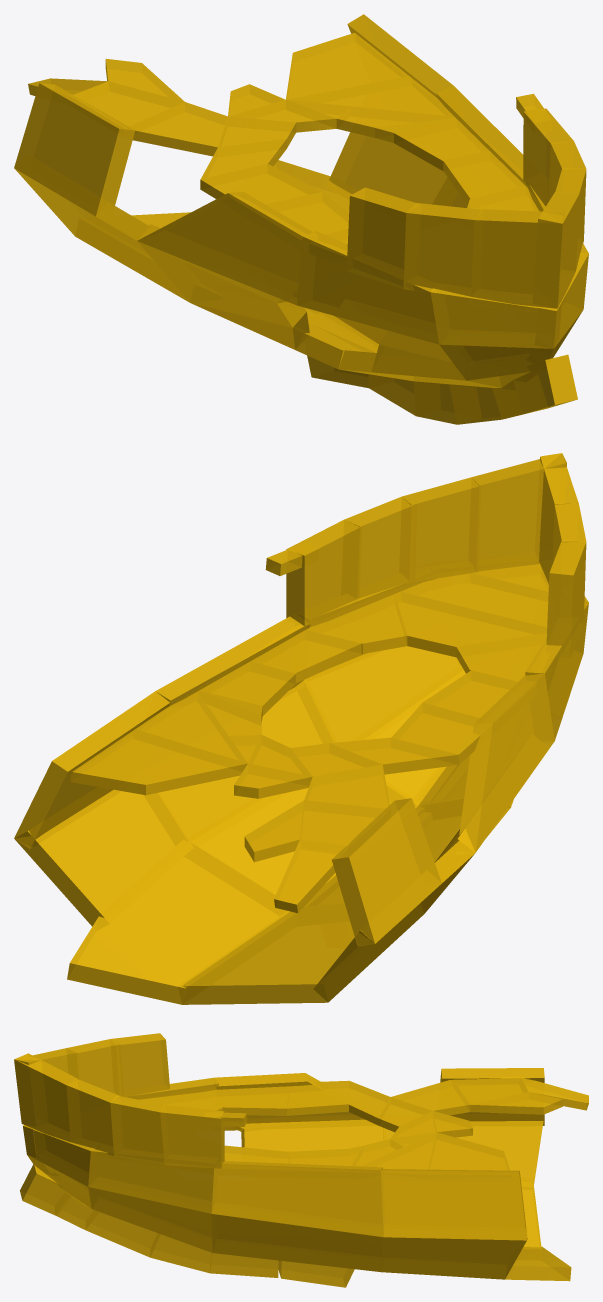
The model's file is SM_Prop_Wreck_Small_Front_01_Collision.fbx.
3 renders of one model, top to bottom at view 1: azimuth 30°, elevation 25°; view 2: azimuth 150°, elevation 25°; view 3: azimuth 270°, elevation 25°, orthographic. The views are drawn at different scales.
Visible parts, largest first — view 1: SM_Prop_Wreck_Small_Front_01_Collision; view 2: SM_Prop_Wreck_Small_Front_01_Collision; view 3: SM_Prop_Wreck_Small_Front_01_Collision.
Boxes of the visible parts, x1,y1,x2,y2 form: SM_Prop_Wreck_Small_Front_01_Collision: (14,14,588,424); SM_Prop_Wreck_Small_Front_01_Collision: (14,453,588,1004); SM_Prop_Wreck_Small_Front_01_Collision: (14,1033,588,1287).
Bounding box in the file's own units: 854 × 708 × 1611.
